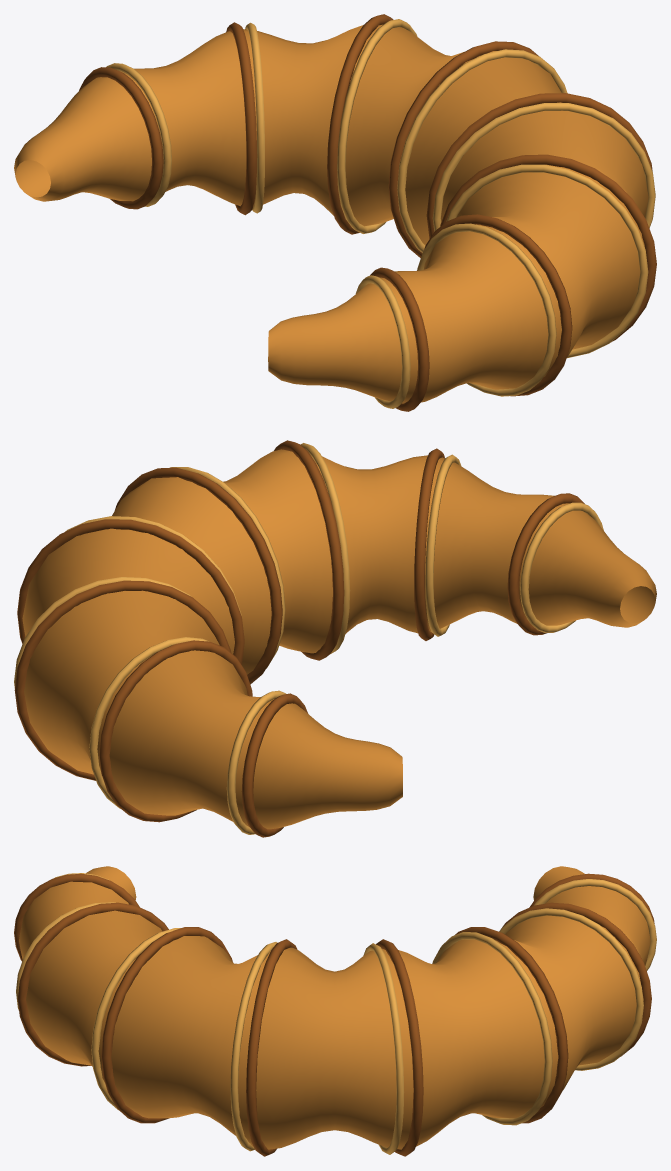
Rendered from croissant.glb.
3 views of the same model, one above another, from view 1: azimuth 30°, elevation 25°; view 2: azimuth 150°, elevation 25°; view 3: azimuth 270°, elevation 25° (orthographic). The views are drawn at different scales.
Visible parts, largest first — view 1: 크루아상 황금빛 표면, 페이스트리 접힌 면의 진한 구움색, 페이스트리 층의 밝은 모서리; view 2: 크루아상 황금빛 표면, 페이스트리 접힌 면의 진한 구움색, 페이스트리 층의 밝은 모서리; view 3: 크루아상 황금빛 표면, 페이스트리 접힌 면의 진한 구움색, 페이스트리 층의 밝은 모서리.
Part boxes in pixels (left/top/right/bottom): 크루아상 황금빛 표면: left=14, top=24, right=648, bottom=403; 페이스트리 접힌 면의 진한 구움색: left=79, top=14, right=656, bottom=411; 페이스트리 층의 밝은 모서리: left=106, top=19, right=655, bottom=408; 크루아상 황금빛 표면: left=22, top=449, right=656, bottom=829; 페이스트리 접힌 면의 진한 구움색: left=14, top=440, right=584, bottom=837; 페이스트리 층의 밝은 모서리: left=14, top=443, right=603, bottom=834; 크루아상 황금빛 표면: left=19, top=866, right=650, bottom=1149; 페이스트리 접힌 면의 진한 구움색: left=14, top=873, right=654, bottom=1156; 페이스트리 층의 밝은 모서리: left=16, top=873, right=656, bottom=1154.
Size of the model in its own units: 1.96 by 0.861 by 2.53.
